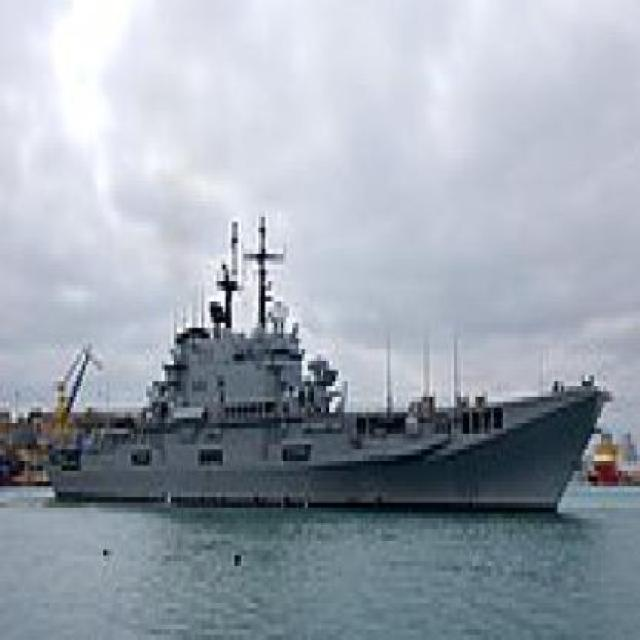warship2: (37, 206, 605, 525)
